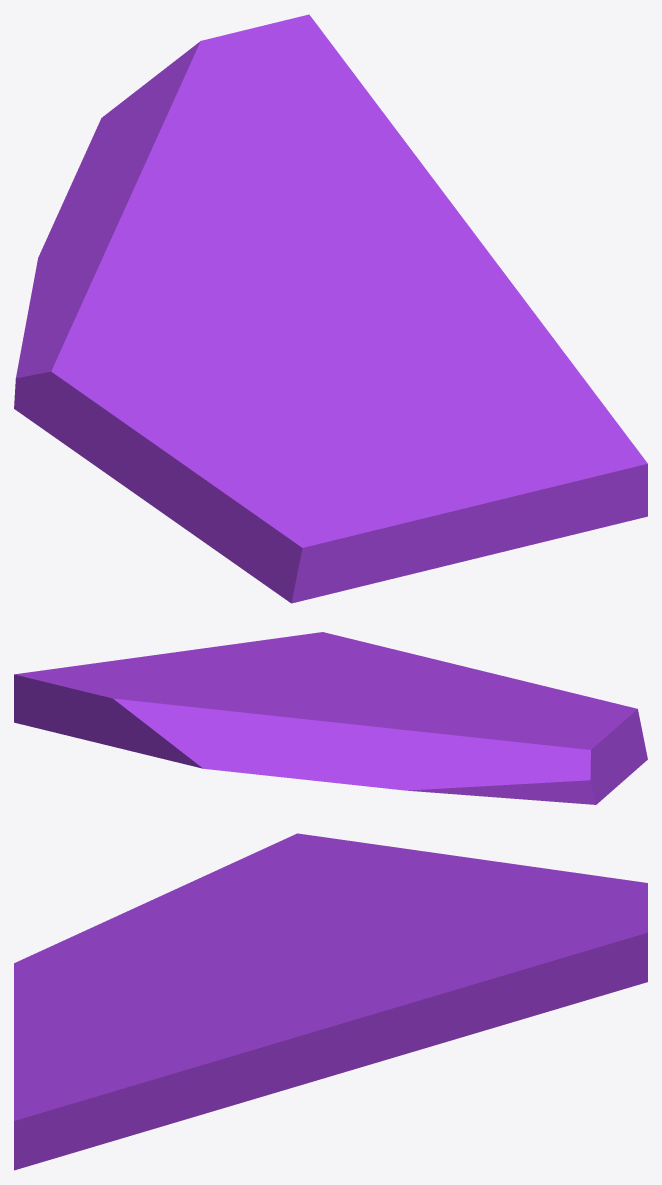
Rendered from Window_153_1_chunks.fbx.
3 views of the same model, one above another, from view 1: azimuth 30°, elevation 25°; view 2: azimuth 150°, elevation 25°; view 3: azimuth 270°, elevation 25° (orthographic). The views are drawn at different scales.
Visible parts, largest first — view 1: Window_153_1_9, Window_153_1_7, Window_153_1_6, Window_153_1_2, Window_153_1_3, Window_153_1_0, Window_153_1_1, Window_153_1_10, Window_153_1_4, Window_153_1_18, Window_153_1_5, Window_153_1_16 (+4 smaller); view 2: Window_153_1_1, Window_153_1_2, Window_153_1_4, Window_153_1_9, Window_153_1_7, Window_153_1_0, Window_153_1_3, Window_153_1_10, Window_153_1_6, Window_153_1_18, Window_153_1_5, Window_153_1_16 (+4 smaller); view 3: Window_153_1_9, Window_153_1_2, Window_153_1_16, Window_153_1_18, Window_153_1_7, Window_153_1_3, Window_153_1_10, Window_153_1_0, Window_153_1_5, Window_153_1_6, Window_153_1_4, Window_153_1_17 (+4 smaller).
Boxes of the visible parts, bbox=[...] form: Window_153_1_9: bbox=[357, 333, 647, 561]; Window_153_1_7: bbox=[95, 364, 334, 557]; Window_153_1_6: bbox=[104, 423, 461, 603]; Window_153_1_2: bbox=[105, 14, 383, 124]; Window_153_1_3: bbox=[175, 114, 392, 229]; Window_153_1_0: bbox=[35, 242, 270, 329]; Window_153_1_1: bbox=[29, 113, 183, 307]; Window_153_1_10: bbox=[264, 227, 413, 421]; Window_153_1_4: bbox=[14, 306, 170, 471]; Window_153_1_18: bbox=[298, 125, 454, 257]; Window_153_1_5: bbox=[154, 326, 373, 439]; Window_153_1_16: bbox=[434, 208, 548, 335]; Window_153_1_1: bbox=[200, 709, 483, 796]; Window_153_1_2: bbox=[14, 665, 225, 767]; Window_153_1_4: bbox=[474, 725, 612, 804]; Window_153_1_9: bbox=[233, 632, 508, 689]; Window_153_1_7: bbox=[490, 700, 639, 785]; Window_153_1_0: bbox=[331, 699, 521, 781]; Window_153_1_3: bbox=[83, 664, 311, 711]; Window_153_1_10: bbox=[269, 672, 455, 701]; Window_153_1_6: bbox=[467, 677, 647, 789]; Window_153_1_18: bbox=[91, 656, 282, 689]; Window_153_1_5: bbox=[404, 687, 507, 725]; Window_153_1_16: bbox=[147, 644, 287, 663]; Window_153_1_9: bbox=[14, 981, 233, 1170]; Window_153_1_2: bbox=[488, 872, 647, 1029]; Window_153_1_16: bbox=[198, 1005, 384, 1114]; Window_153_1_18: bbox=[345, 940, 491, 1060]; Window_153_1_7: bbox=[14, 856, 270, 977]; Window_153_1_3: bbox=[395, 876, 554, 984]; Window_153_1_10: bbox=[149, 927, 397, 1002]; Window_153_1_0: bbox=[284, 840, 434, 934]; Window_153_1_5: bbox=[123, 879, 320, 989]; Window_153_1_6: bbox=[14, 958, 159, 1027]; Window_153_1_4: bbox=[247, 833, 347, 888]; Window_153_1_17: bbox=[241, 957, 352, 1019].
Bounding box in the file's own units: 927 × 482 × 1165.
